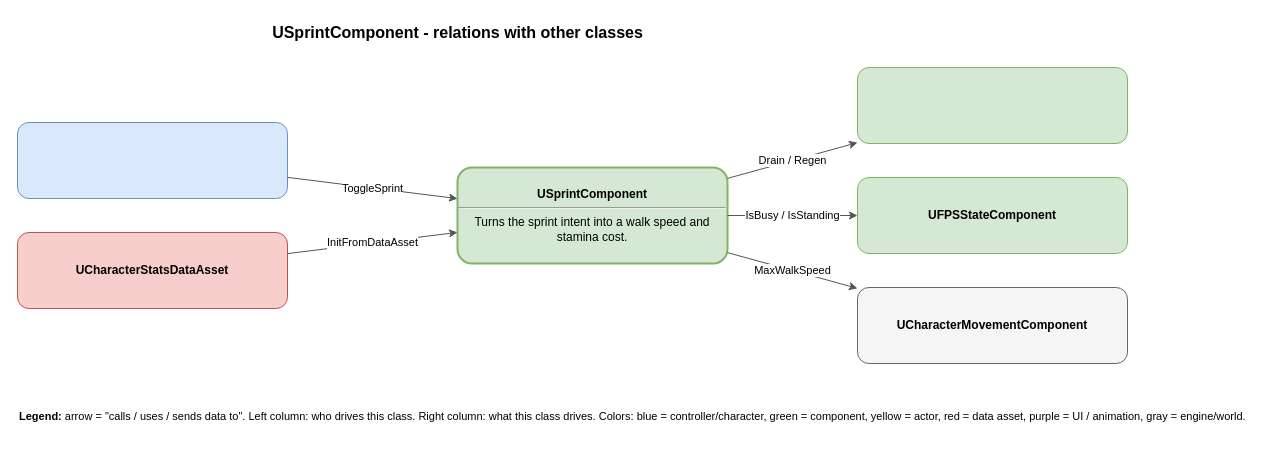
The diagram is 1264 pixels wide and 460 high, and some of its shapes have lost their labels. Here are the shapes that lost their labels. From the top down, the box of each, then its label:
(856, 66, 1128, 144): UStaminaComponent
(16, 122, 288, 198): AFPSPlayerController
